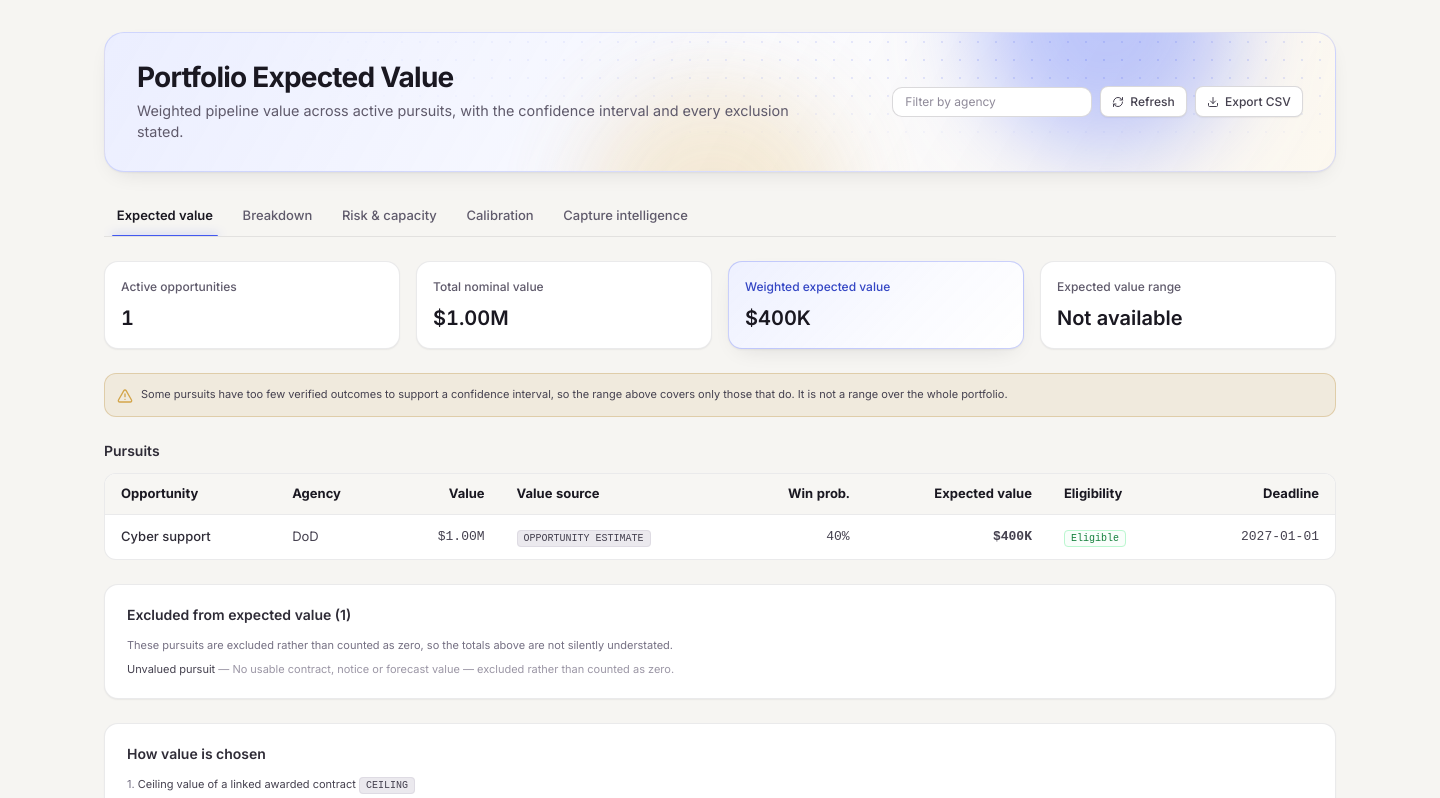
Portfolio — risk tab › renders concentration and capacity information
The width and height of the screenshot is (1440, 798).
Check: the text "Weighted expected value" is shown, box [745,279,890,294]
Step 1. Click the tab "Risk & capacity" → point(389, 216), box [329,196,450,236]
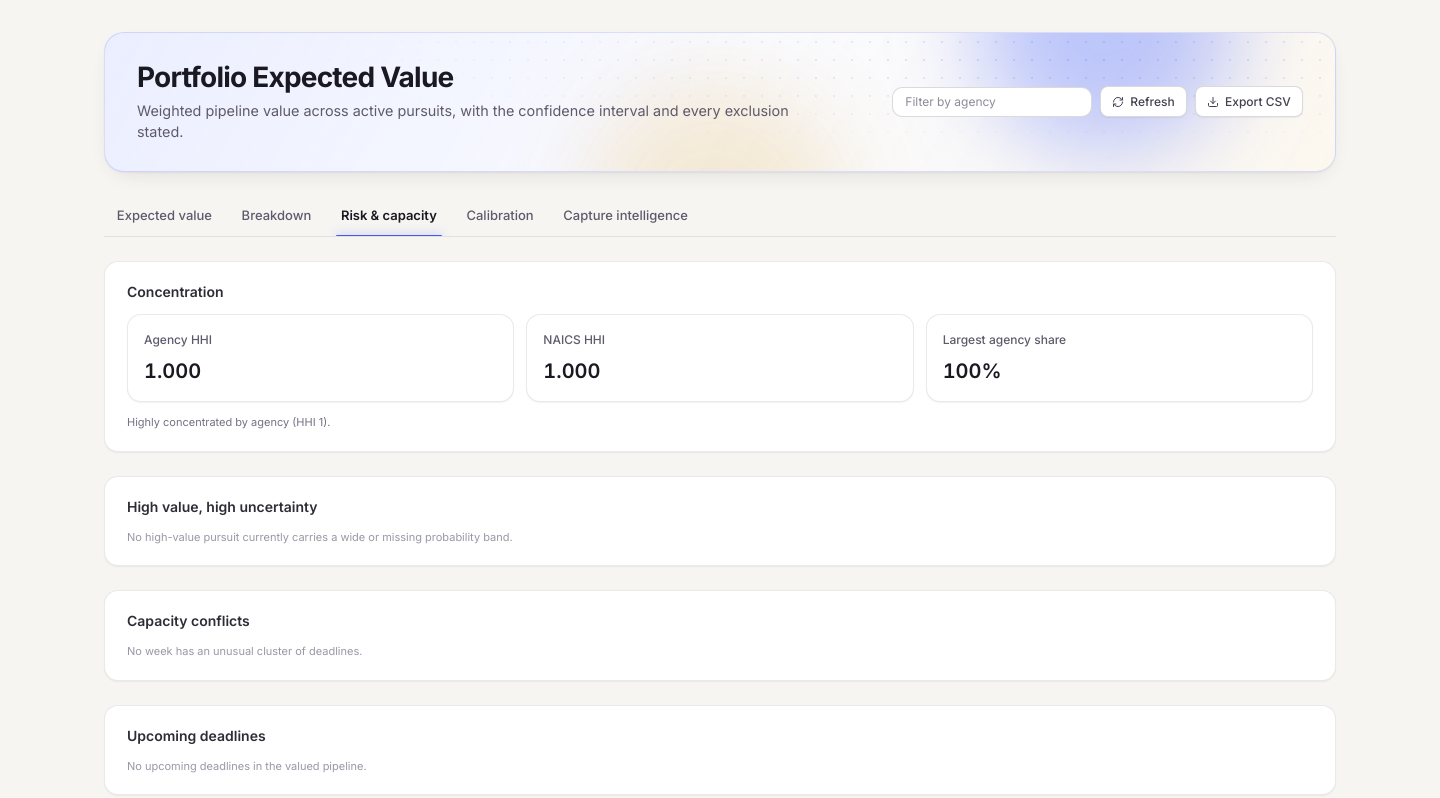
Check: the heading "Concentration" is shown, box [127,283,224,300]
Check: the text "Highly concentrated by agency (HHI 1)." is shown, box [127,415,330,429]
Check: the text "No week has an unusual cluster of deadlines." is shown, box [127,644,362,658]
